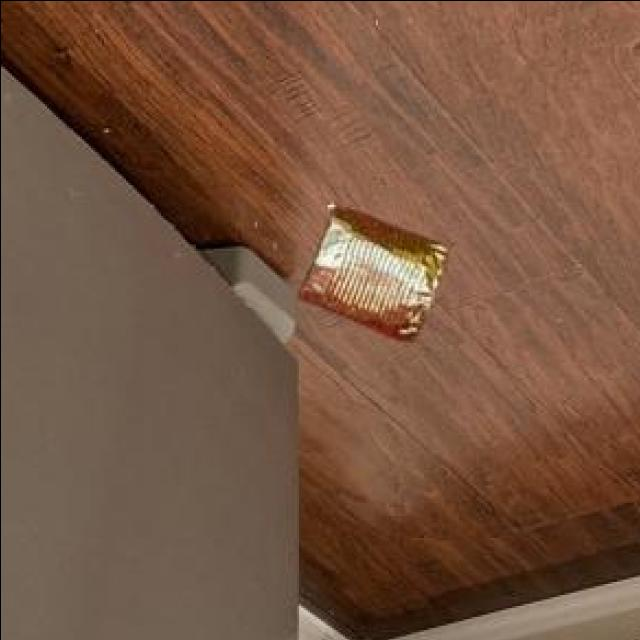logam: (301, 209, 448, 343)
